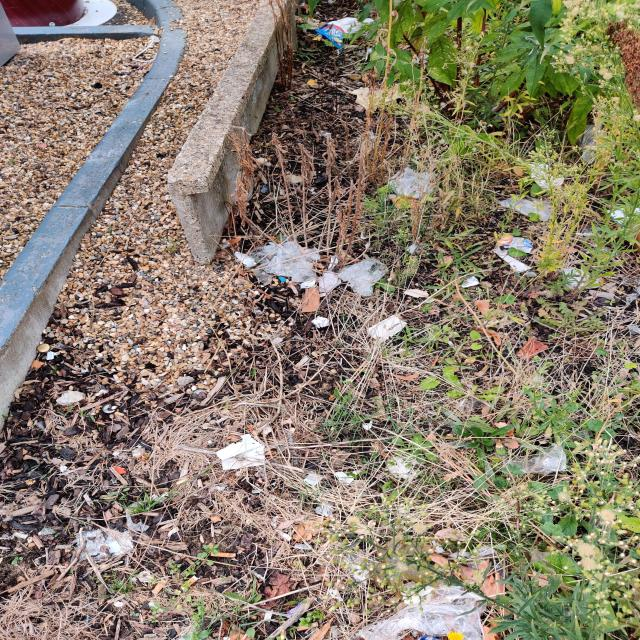litter: (310, 13, 386, 57)
